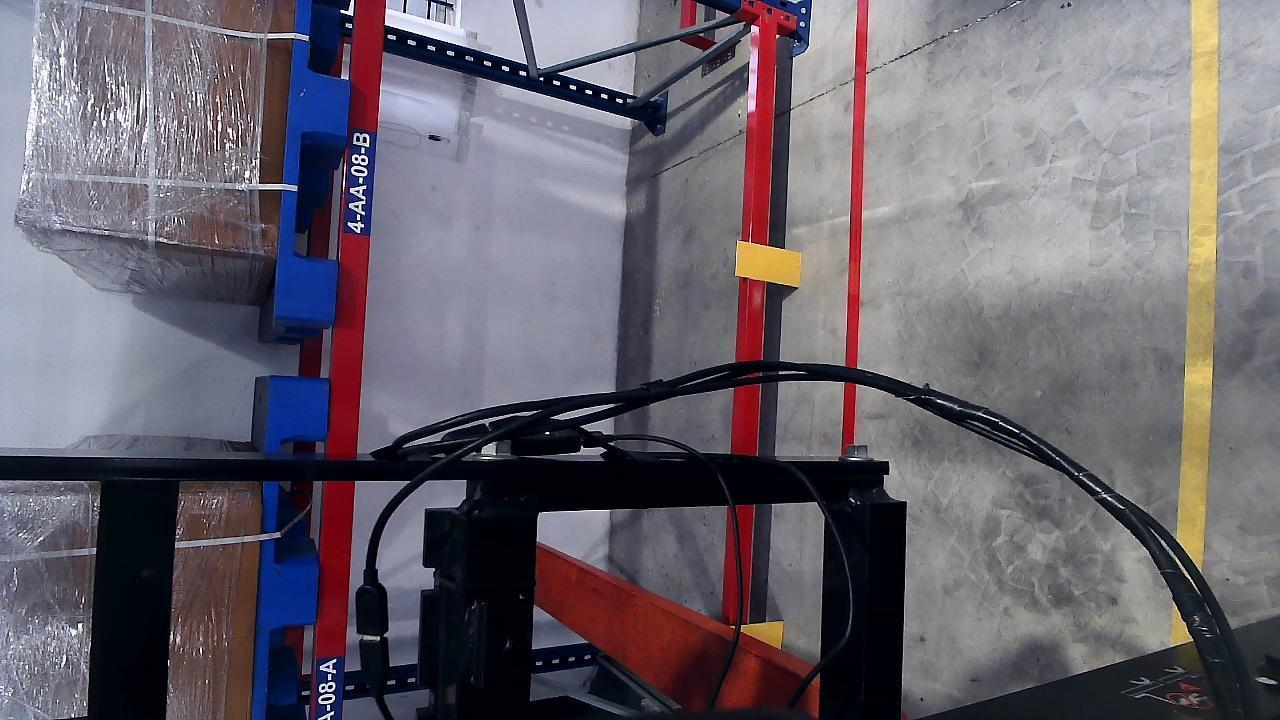red_line: (835, 3, 868, 462)
yellow_line: (1174, 1, 1221, 706)
